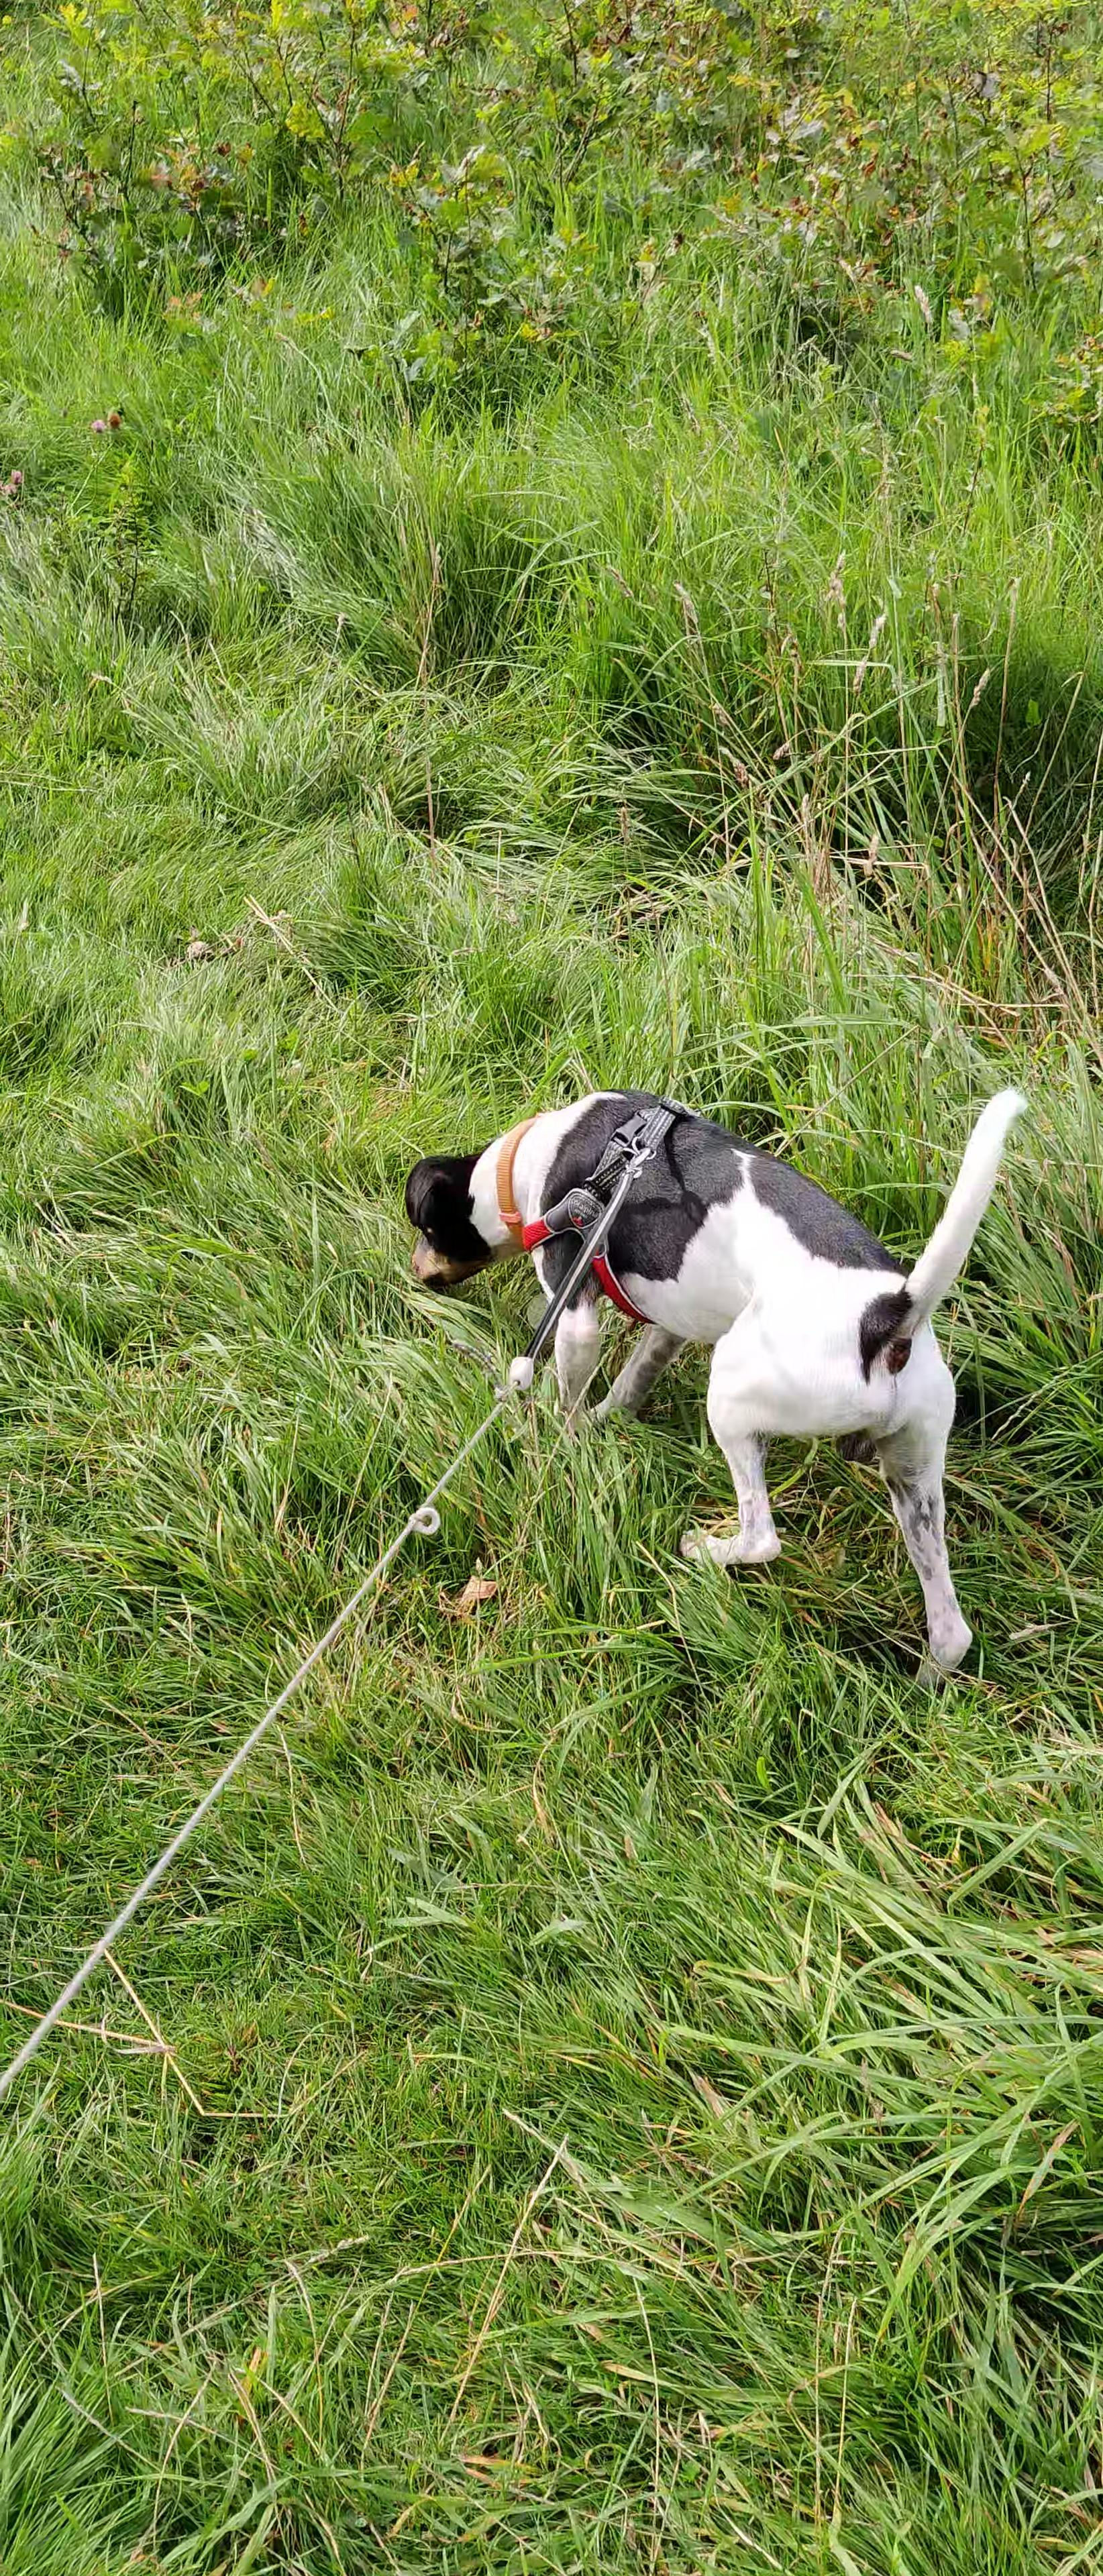Dog: (385, 1071, 1037, 1689)
